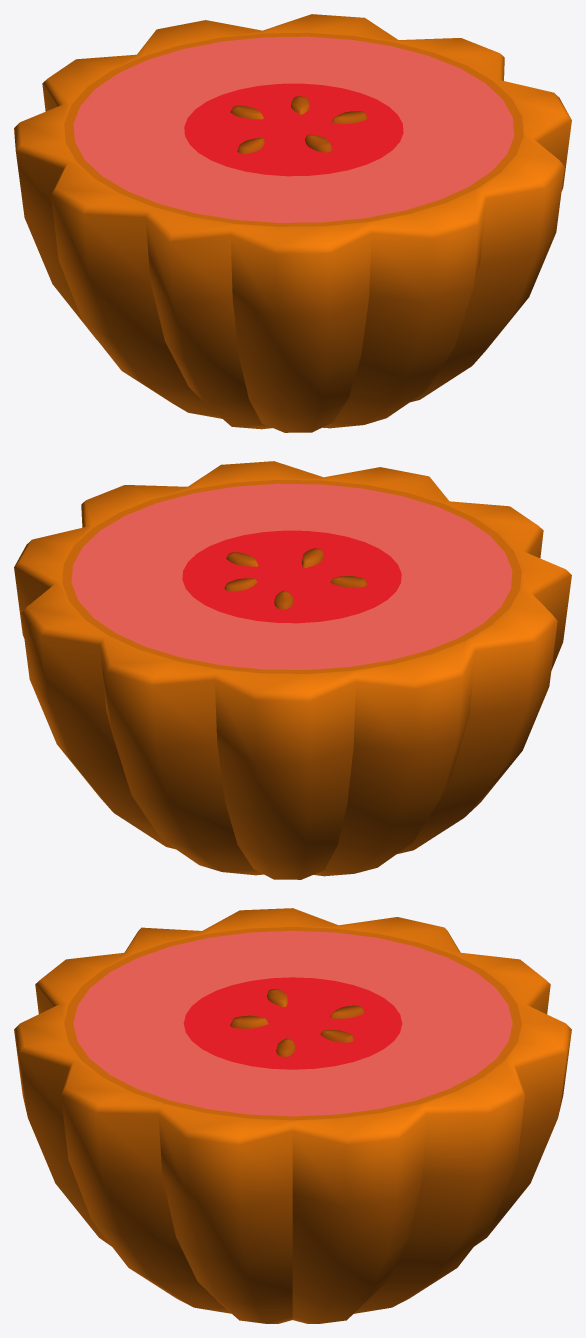
The model's file is Melon_half.fbx.
The picture shows the model from 3 angles, top to bottom: view 1: azimuth 30°, elevation 25°; view 2: azimuth 150°, elevation 25°; view 3: azimuth 270°, elevation 25°; orthographic projection.
Visible parts, largest first — view 1: Melon_half; view 2: Melon_half; view 3: Melon_half.
Boxes of the visible parts, x1,y1,x2,y2 form: Melon_half: (14, 14, 571, 432); Melon_half: (14, 461, 571, 879); Melon_half: (14, 908, 571, 1323).
Size of the model in its own units: 169 by 95.89 by 170.
